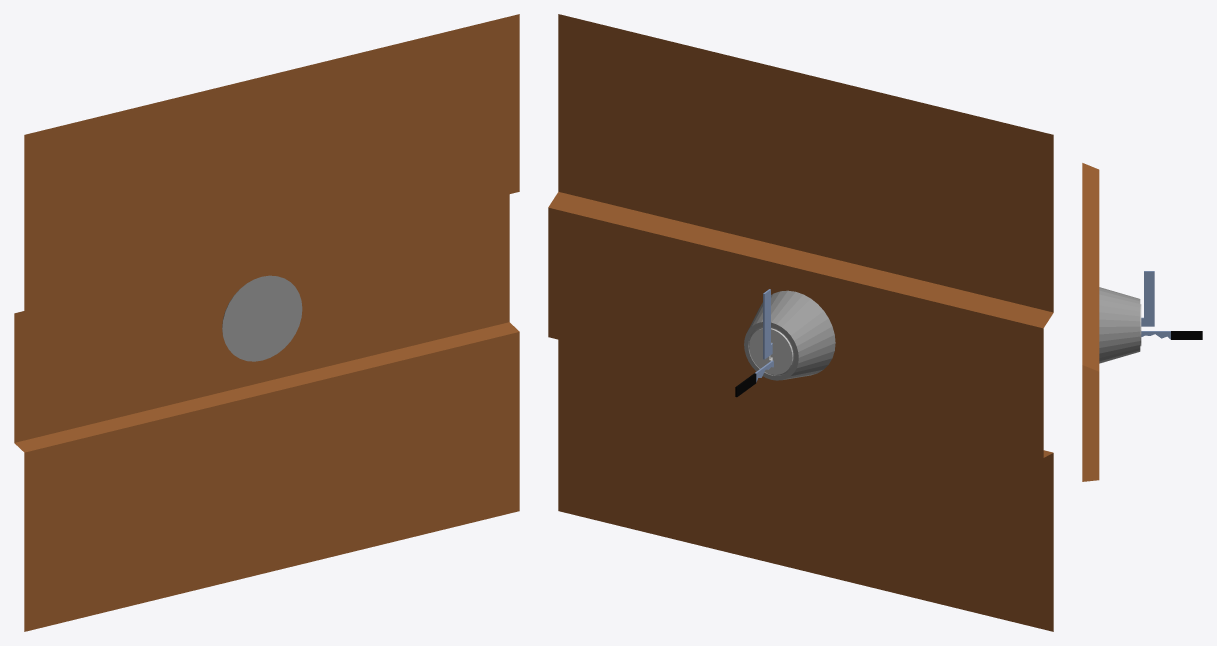
Rendered from door_lock.fbx.
The picture shows the model from 3 angles, left to right: view 1: azimuth 30°, elevation 25°; view 2: azimuth 150°, elevation 25°; view 3: azimuth 270°, elevation 25°; orthographic projection. The views are drawn at different scales.
Parts seen in each view (by area): view 1: Cube.002, Cylinder.001; view 2: Cube.002, Cylinder.001, Cylinder; view 3: Cube.002, Cylinder.001, Cube, Cube.001.
Part boxes in pixels (x1,y1,x2,y2): Cube.002: (14,14,519,631); Cylinder.001: (222,275,302,361); Cube.002: (548,14,1053,631); Cylinder.001: (744,290,835,380); Cylinder: (749,328,793,374); Cube.002: (1082,163,1099,481); Cylinder.001: (1099,287,1140,363); Cube: (1141,271,1154,326); Cube.001: (1141,331,1202,339).
Size of the model in its own units: 2288 by 577 by 2194.
Materials: 5 (5 with a texture image).
